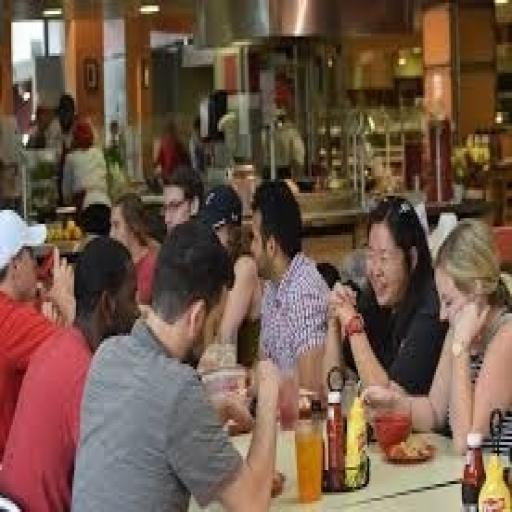eating: (69, 218, 282, 509), (360, 213, 510, 456), (325, 193, 445, 400), (245, 176, 334, 403)
